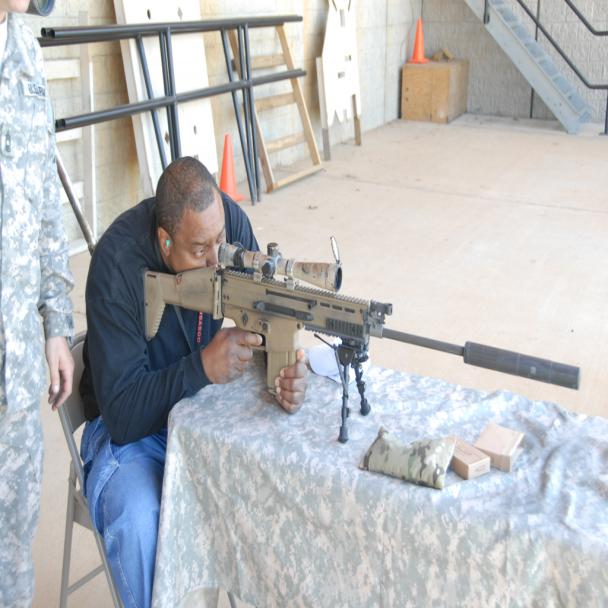Gun: (138, 239, 588, 395)
Hand: (191, 317, 260, 391), (272, 342, 311, 423)
